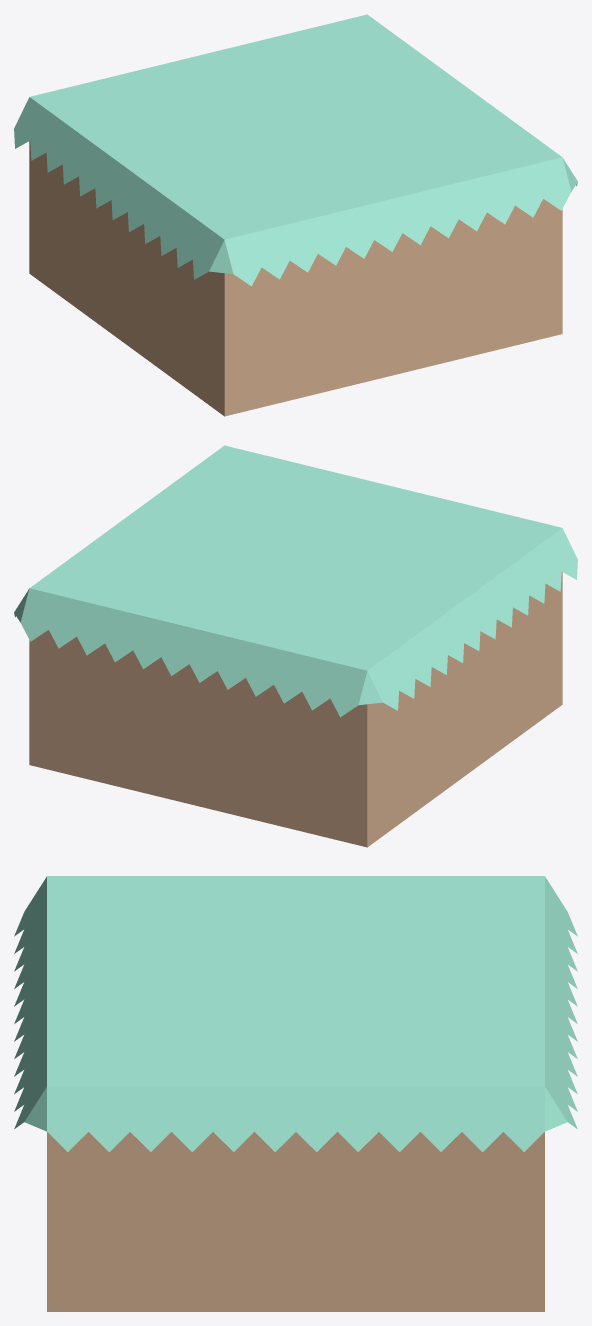
The picture shows the model from 3 angles, top to bottom: view 1: azimuth 30°, elevation 25°; view 2: azimuth 150°, elevation 25°; view 3: azimuth 270°, elevation 25°; orthographic projection. The views are drawn at different scales.
Parts seen in each view (by area): view 1: blockLarge; view 2: blockLarge; view 3: blockLarge.
Boxes of the visible parts, box(x1,y1,x2,y2) form: blockLarge: box(14, 14, 577, 416); blockLarge: box(14, 445, 577, 847); blockLarge: box(14, 876, 577, 1311).
Size of the model in its own units: 2.27 by 1 by 2.27.
